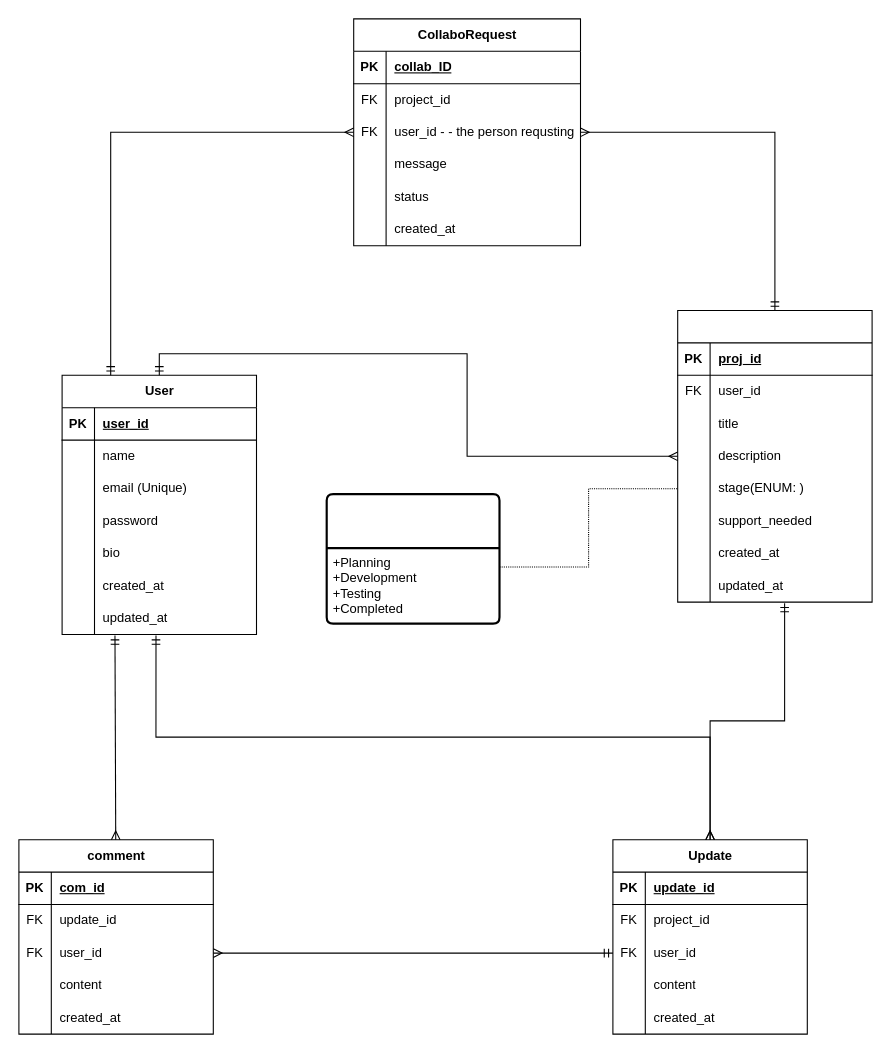
Image size: 891x1053. Some labels were removed from this diagram. Each missing label, with the box of its shape:
ENUM: (325, 492, 500, 624)
Projects: (677, 309, 872, 602)
